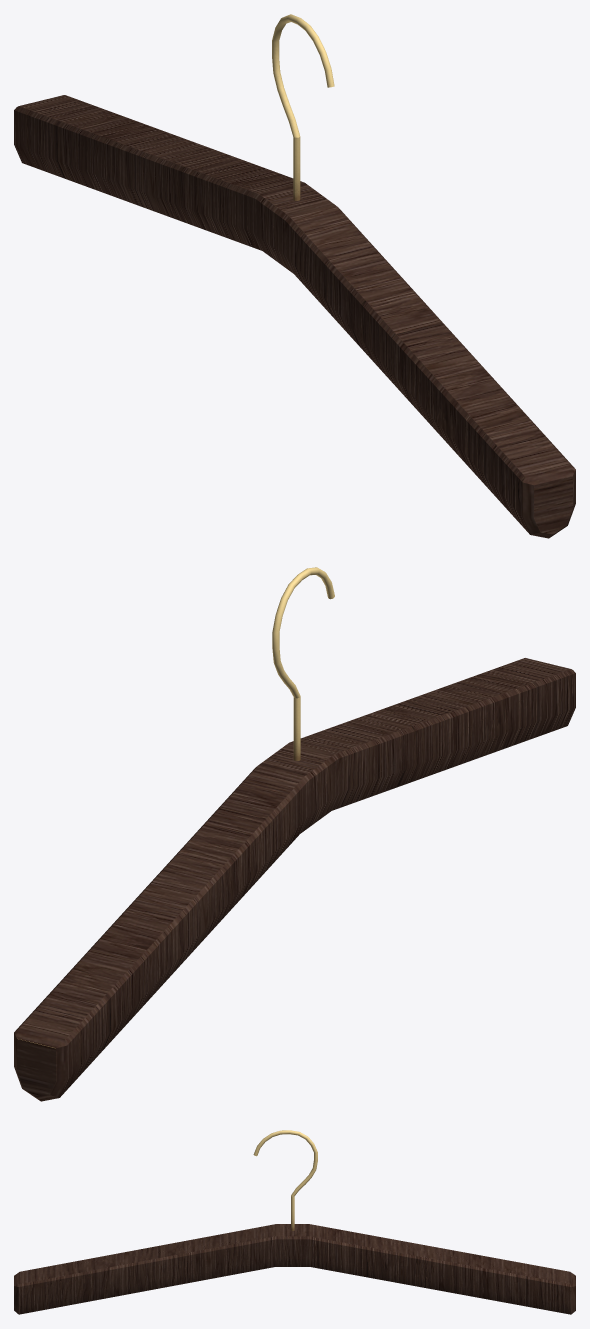
File: Obj_Cabide.fbx
3 renders of one model, top to bottom at view 1: azimuth 30°, elevation 25°; view 2: azimuth 150°, elevation 25°; view 3: azimuth 270°, elevation 25°, orthographic. The views are drawn at different scales.
Visible parts, largest first — view 1: pCube23, pCylinder4; view 2: pCube23, pCylinder4; view 3: pCube23, pCylinder4.
Boxes of the visible parts, box(x1,y1,x2,y2) form: pCube23: box(14, 95, 575, 538); pCylinder4: box(272, 14, 334, 200); pCube23: box(14, 658, 575, 1101); pCylinder4: box(272, 567, 334, 760); pCube23: box(14, 1224, 575, 1314); pCylinder4: box(253, 1130, 317, 1230).
Bounding box in the file's own units: 0.0226 × 0.1371 × 0.3801.
1 material, 1 textured.
